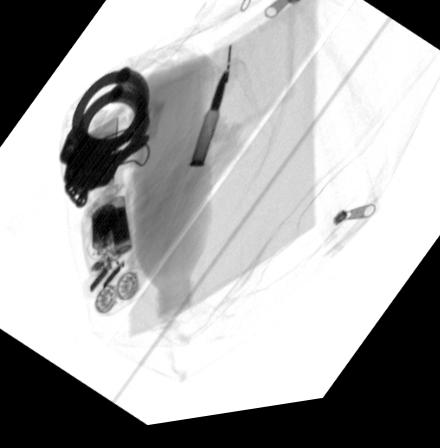Bullet: (188, 77, 226, 173)
HandCuffs: (56, 71, 149, 213)
